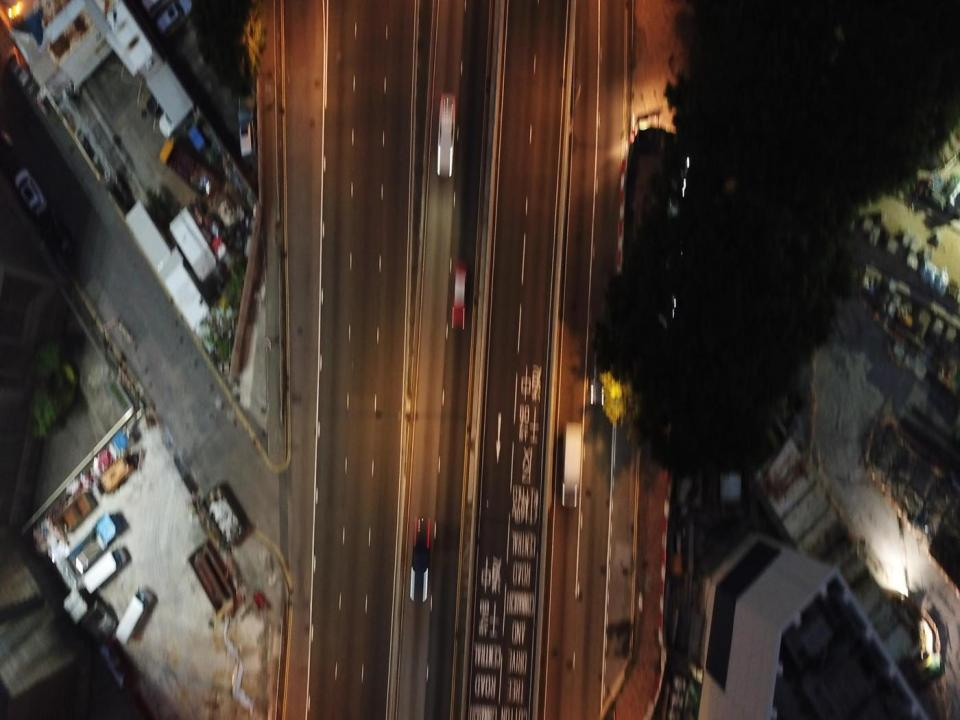bus: (561, 422, 584, 507), (588, 340, 608, 406)
car: (408, 518, 435, 602), (436, 92, 459, 178), (15, 167, 47, 213), (450, 259, 468, 331), (146, 80, 183, 115), (160, 106, 188, 136)
truck: (67, 513, 120, 573)
van: (76, 545, 128, 593), (114, 588, 153, 643)
